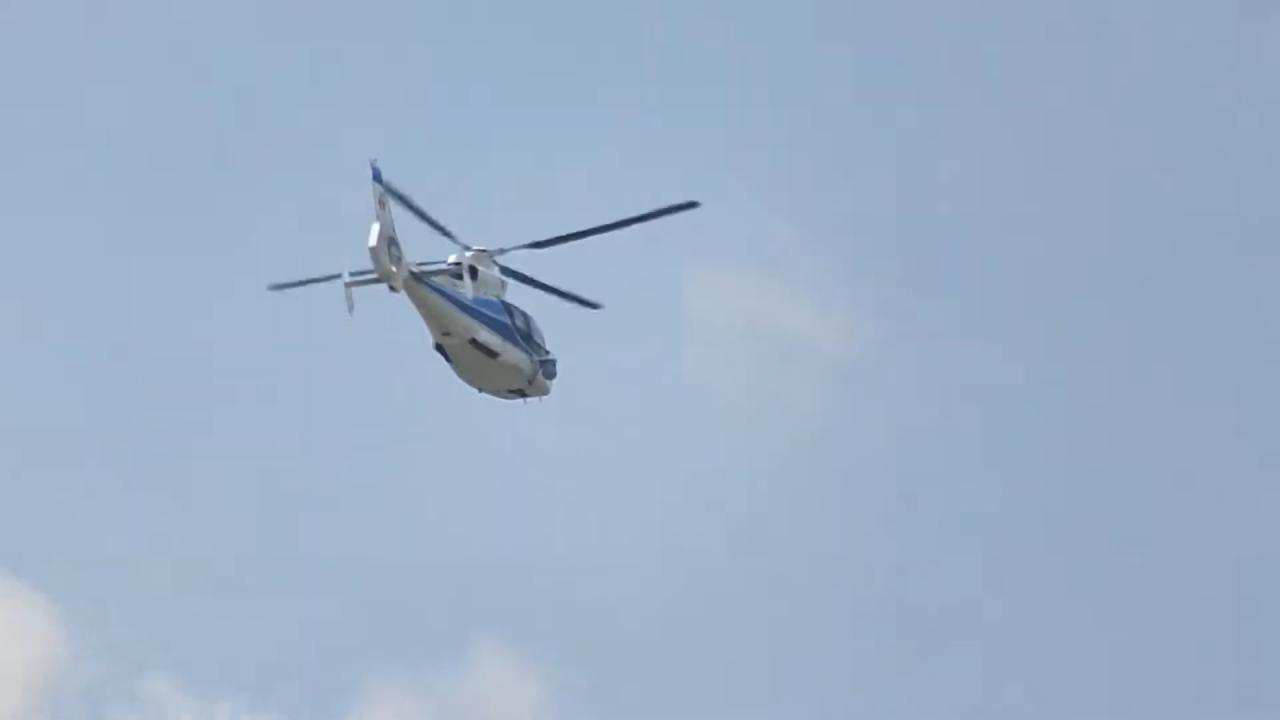Helicopter: (230, 118, 726, 453)
